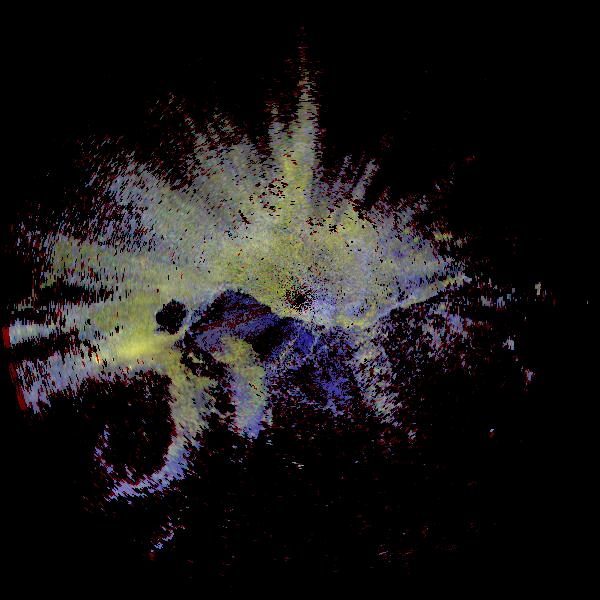roost: (24, 322, 222, 520), (117, 309, 279, 471)
